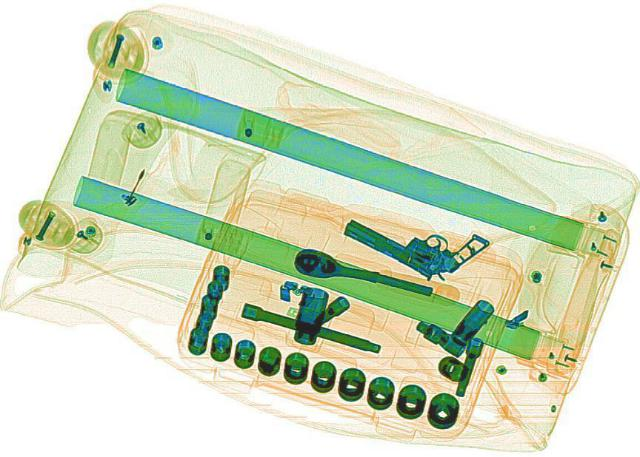Gun: (334, 185, 498, 286)
